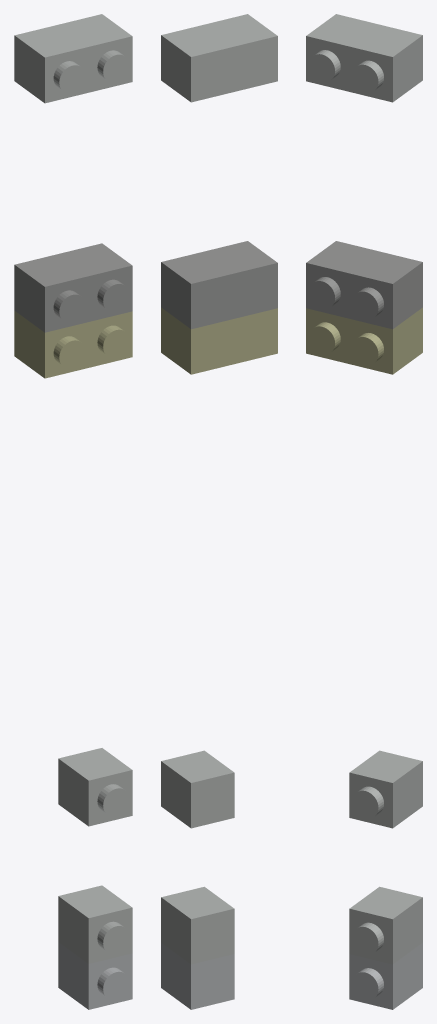
File: current.glb
The picture shows the model from 3 angles, left to right: view 1: azimuth 30°, elevation 25°; view 2: azimuth 210°, elevation 25°; view 3: azimuth 330°, elevation 25°; orthographic projection.
Parts seen in each view (by area): view 1: world; view 2: world; view 3: world.
Boxes of the visible parts, left/top/right/bottom form: world: left=14, top=14, right=132, bottom=1009; world: left=161, top=14, right=277, bottom=1009; world: left=306, top=14, right=422, bottom=1009.
Bounding box in the file's own units: 16 × 168 × 11.4.
